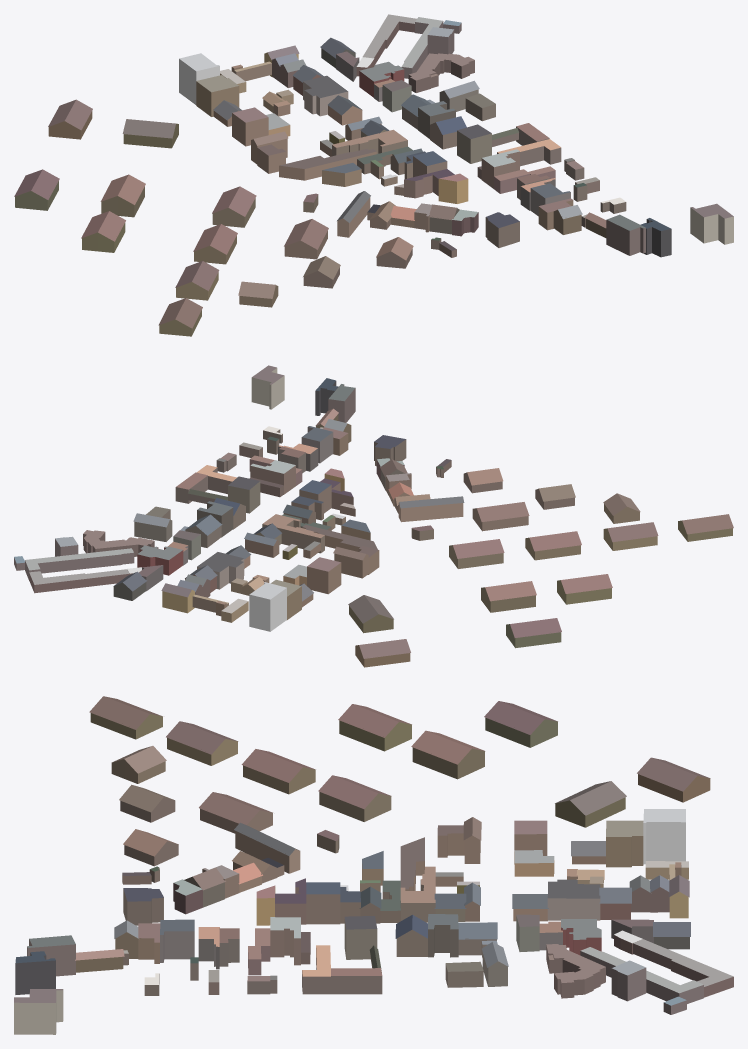
3 renders of one model, top to bottom at view 1: azimuth 30°, elevation 25°; view 2: azimuth 150°, elevation 25°; view 3: azimuth 270°, elevation 25°, orthographic. The views are drawn at different scales.
Parts seen in each view (by area): view 1: tuile; view 2: tuile; view 3: tuile.
Part boxes in pixels (box(x1,y1,x2,y2)): tuile: box(14, 14, 733, 336); tuile: box(14, 365, 733, 667); tuile: box(14, 696, 733, 1034).
Bounding box in the file's own units: 263 × 23.38 × 253.
